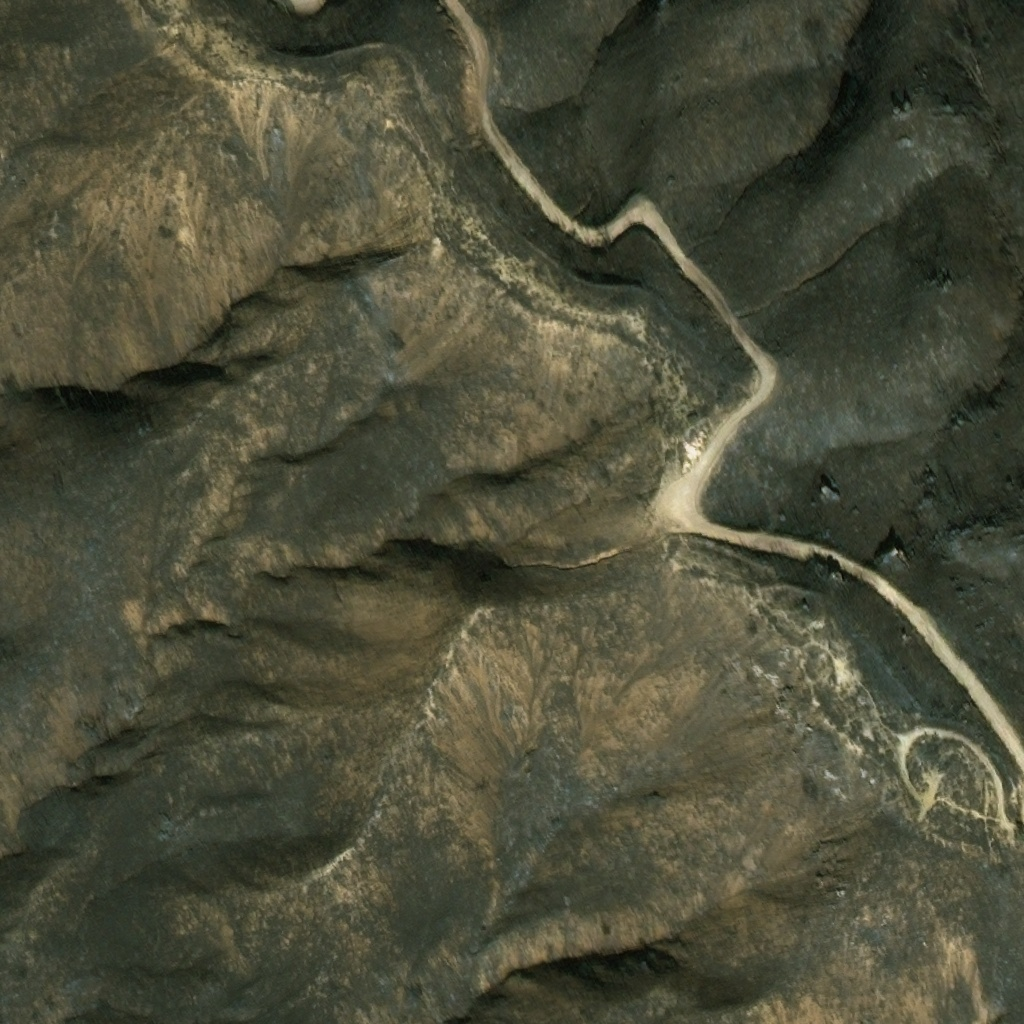3 destroyed: (882, 540, 910, 564)
